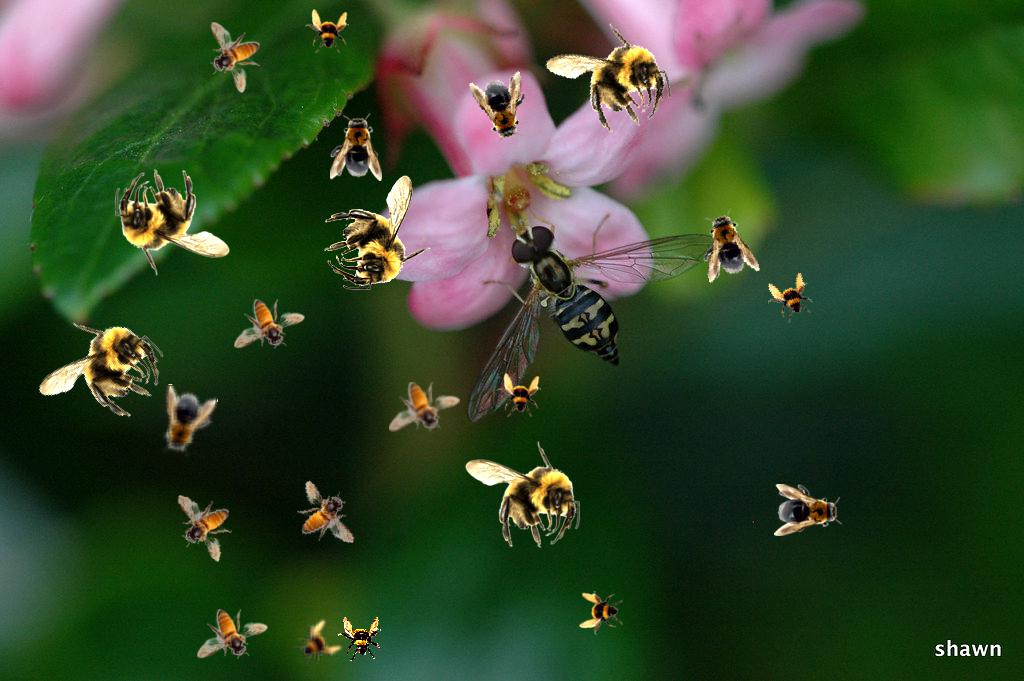Bee: (22, 292, 179, 451), (539, 11, 678, 146), (115, 169, 230, 276), (324, 175, 431, 290), (465, 441, 580, 548), (468, 69, 538, 149), (691, 205, 761, 285), (151, 383, 219, 463), (290, 473, 356, 554), (176, 488, 236, 567), (285, 612, 347, 674), (760, 268, 820, 328), (197, 609, 268, 659), (389, 382, 460, 432), (210, 22, 260, 93), (234, 299, 305, 349), (774, 484, 842, 536), (330, 113, 382, 181), (336, 614, 384, 662), (305, 9, 349, 53), (579, 591, 623, 635), (497, 373, 541, 417)
